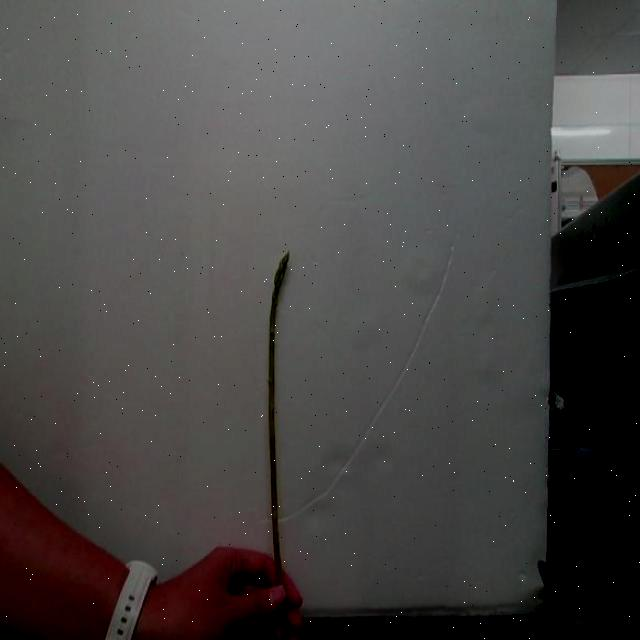aspargus: (265, 255, 292, 583)
